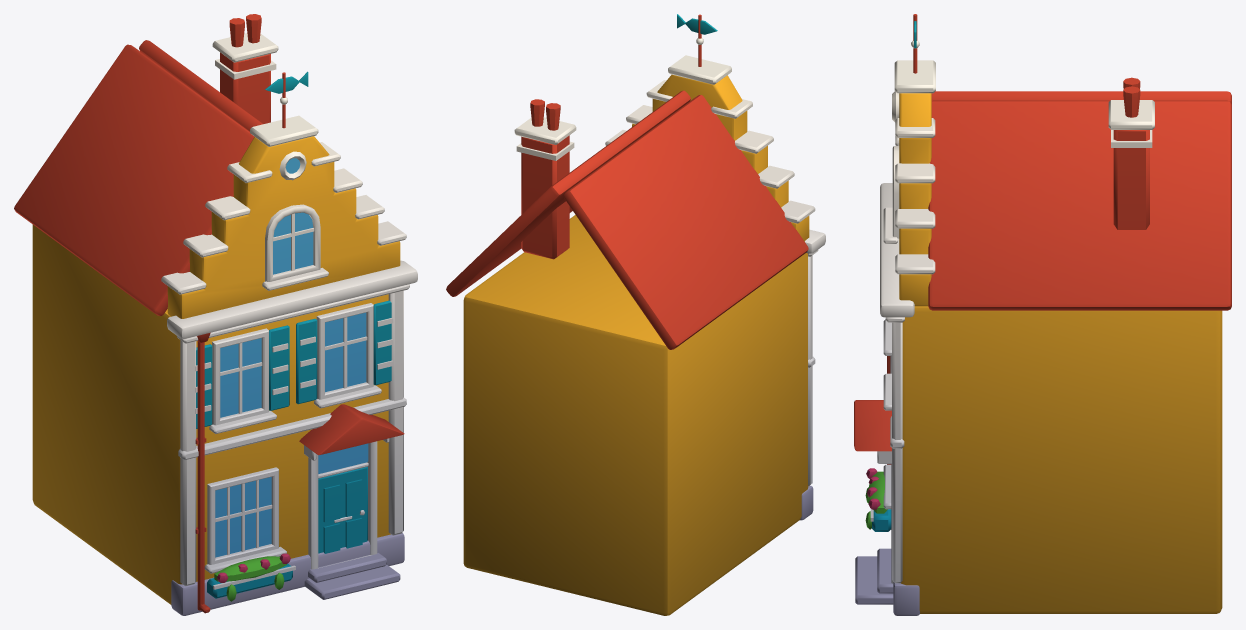
Rendered from house_b.glb.
3 views of the same model, side by side, from view 1: azimuth 30°, elevation 25°; view 2: azimuth 150°, elevation 25°; view 3: azimuth 270°, elevation 25° (orthographic). The views are drawn at different scales.
Visible parts, largest first — view 1: house_b; view 2: house_b; view 3: house_b.
Boxes of the visible parts, box(x1,y1,x2,y2) form: house_b: box(14, 14, 417, 615); house_b: box(446, 14, 825, 615); house_b: box(854, 14, 1231, 615).
Size of the model in its own units: 4.7 by 9.3 by 5.85.
